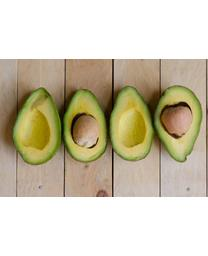avocado: (11, 86, 63, 167), (155, 84, 203, 162), (61, 88, 109, 164), (109, 85, 155, 162)
